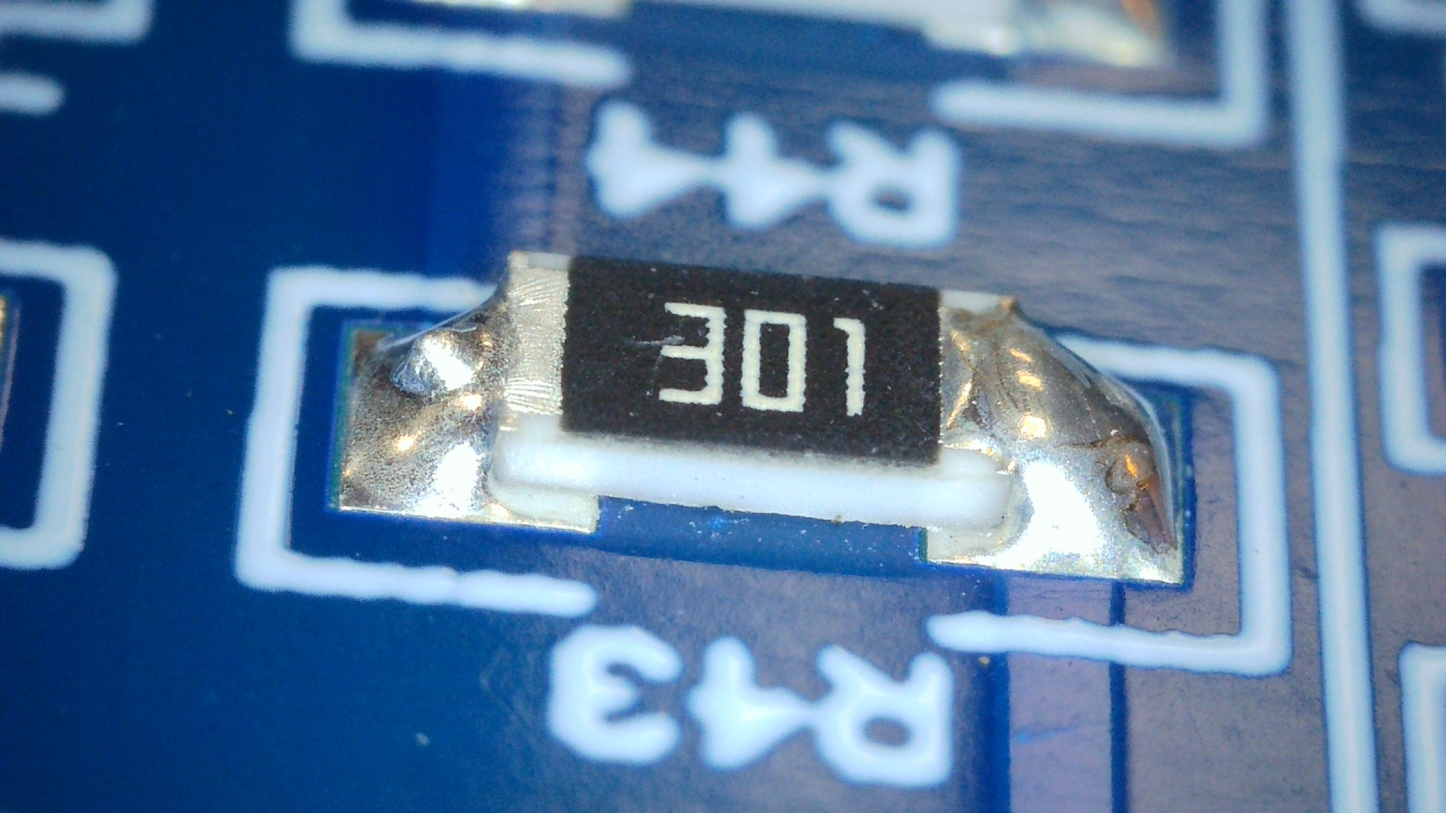NG: (940, 289, 1175, 566), (393, 328, 490, 394)
OK: (346, 253, 567, 510)
